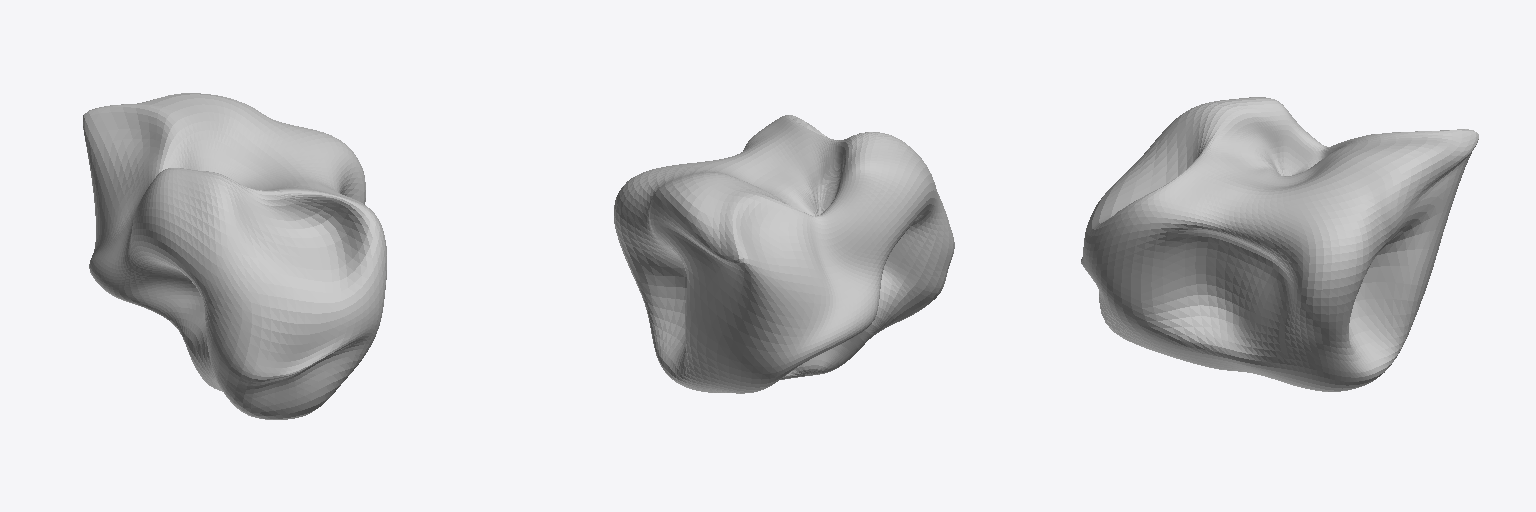
The model's file is asteroid3.obj.
3 views of the same model, side by side, from view 1: azimuth 30°, elevation 25°; view 2: azimuth 150°, elevation 25°; view 3: azimuth 270°, elevation 25° (orthographic).
Visible parts, largest first — view 1: Sphere; view 2: Sphere; view 3: Sphere.
Boxes of the visible parts, x1,y1,x2,y2 form: Sphere: [83, 93, 386, 419]; Sphere: [614, 115, 954, 393]; Sphere: [1081, 97, 1478, 391].
Bounding box in the file's own units: 13.5 × 11.84 × 18.18.